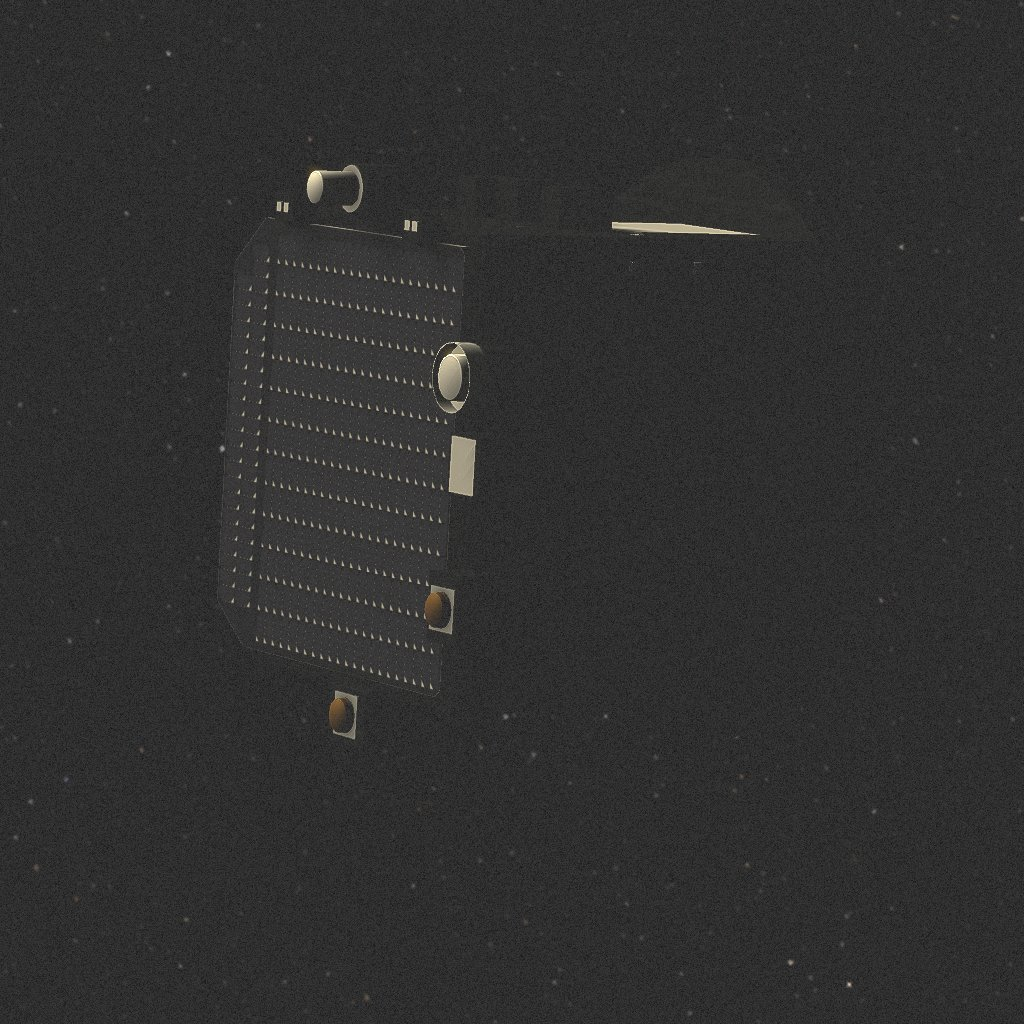proba_3_ocs: (232, 223, 872, 763)
